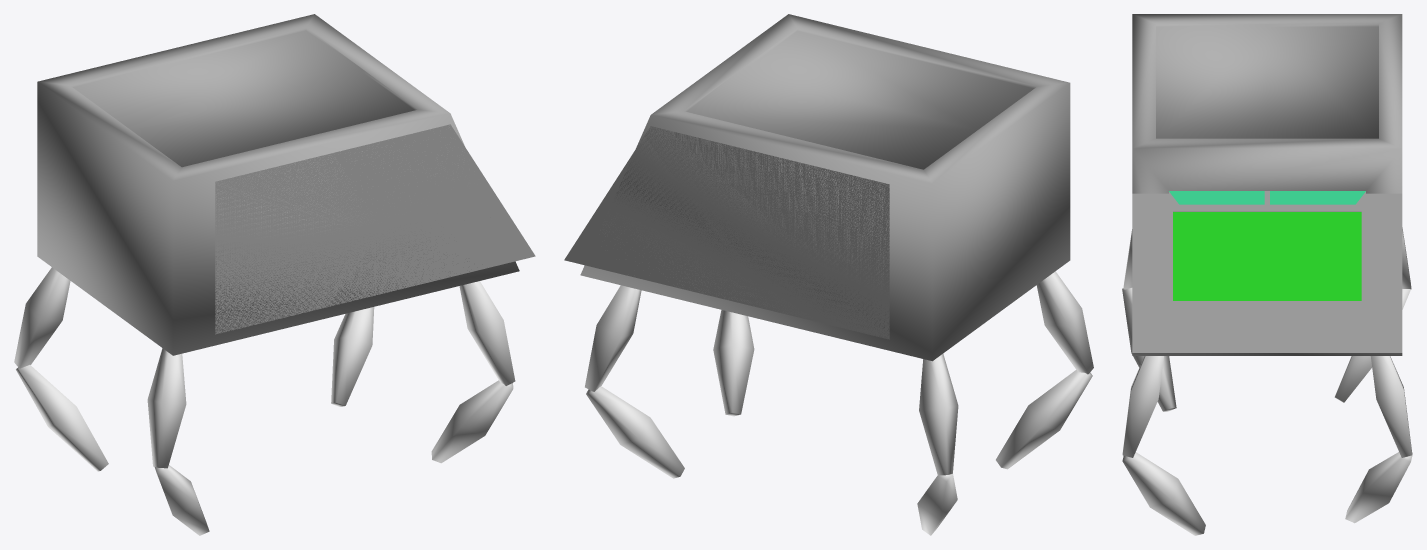
The model's file is Robot.fbx.
3 renders of one model, left to right at view 1: azimuth 30°, elevation 25°; view 2: azimuth 150°, elevation 25°; view 3: azimuth 270°, elevation 25°, orthographic. The views are drawn at different scales.
Visible parts, largest first — view 1: Cube, Cube.001, Cube.007, Cube.004, Cube.005, Cube.011, Cube.010, Cube.008, Cube.006; view 2: Cube, Cube.001, Cube.006, Cube.008, Cube.005, Cube.010, Cube.007, Cube.009, Cube.004; view 3: Cube, Cube.001, Cube.010, Cube.009, Cube.011, Cube.008, Cube.006, Cube.004.
Part boxes in pixels (box(x1,y1,x2,y2)): Cube: box(37, 14, 519, 355); Cube.001: box(215, 124, 535, 334); Cube.007: box(147, 348, 186, 468); Cube.004: box(16, 365, 108, 471); Cube.005: box(14, 267, 70, 368); Cube.011: box(459, 281, 515, 385); Cube.010: box(431, 380, 513, 463); Cube.008: box(331, 307, 374, 406); Cube.006: box(154, 465, 209, 535); Cube: box(580, 14, 1070, 361); Cube.001: box(564, 126, 889, 339); Cube.006: box(996, 370, 1092, 469); Cube.008: box(586, 386, 684, 478); Cube.005: box(919, 354, 958, 475); Cube.010: box(713, 310, 754, 416); Cube.007: box(1036, 271, 1093, 374); Cube.009: box(585, 285, 641, 391); Cube.004: box(917, 473, 957, 535); Cube: box(1132, 14, 1402, 355); Cube.001: box(1132, 191, 1402, 352); Cube.010: box(1122, 452, 1205, 535); Cube.009: box(1370, 356, 1412, 457); Cube.011: box(1122, 356, 1163, 457); Cube.008: box(1345, 452, 1412, 523); Cube.006: box(1122, 288, 1176, 411); Cube.004: box(1334, 289, 1410, 402).
Bounding box in the file's own units: 325 × 308 × 215.
